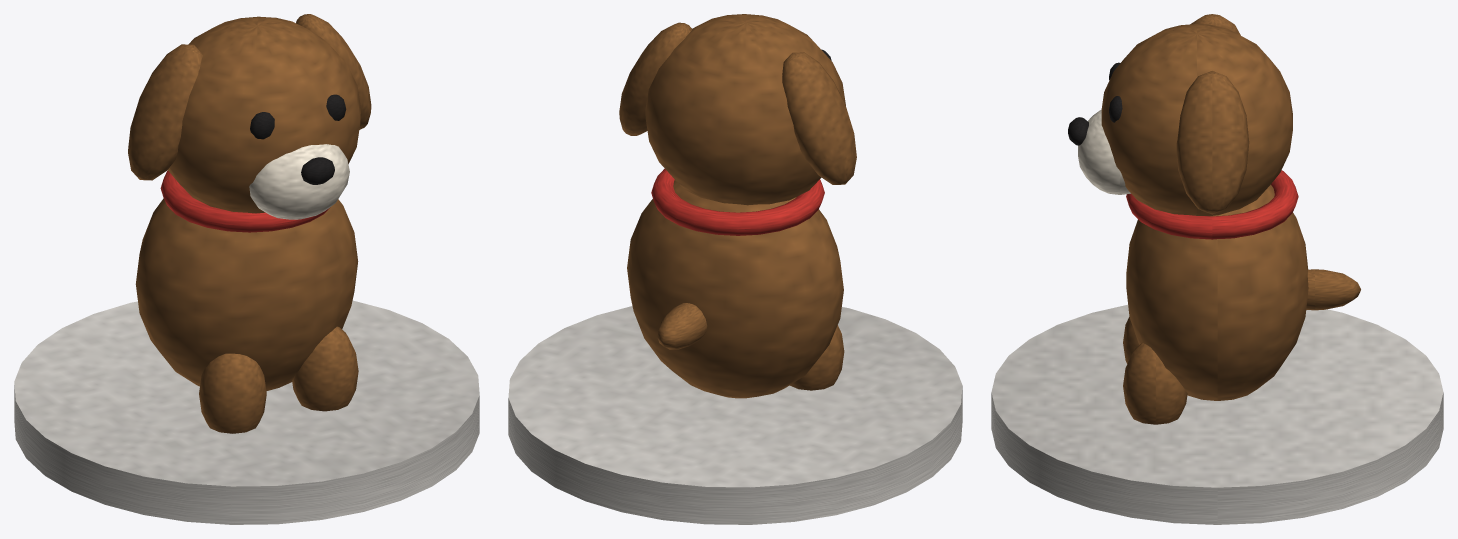
3 renders of one model, left to right at view 1: azimuth 30°, elevation 25°; view 2: azimuth 150°, elevation 25°; view 3: azimuth 270°, elevation 25°, orthographic. The views are drawn at different scales.
Parts seen in each view (by area): view 1: figurine; view 2: figurine; view 3: figurine.
Boxes of the visible parts, bbox=[...] form: figurine: bbox=[14, 14, 479, 524]; figurine: bbox=[508, 14, 962, 524]; figurine: bbox=[991, 14, 1443, 524].
Bounding box in the file's own units: 44 × 42.5 × 44.
1 material, 1 textured.
